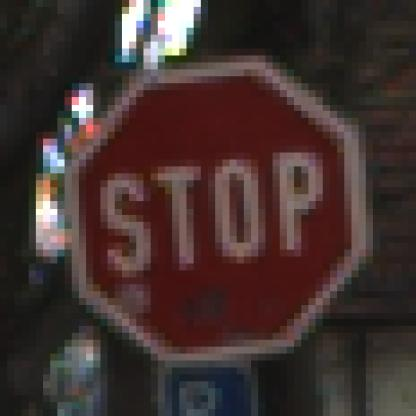stop: (49, 57, 393, 352)
